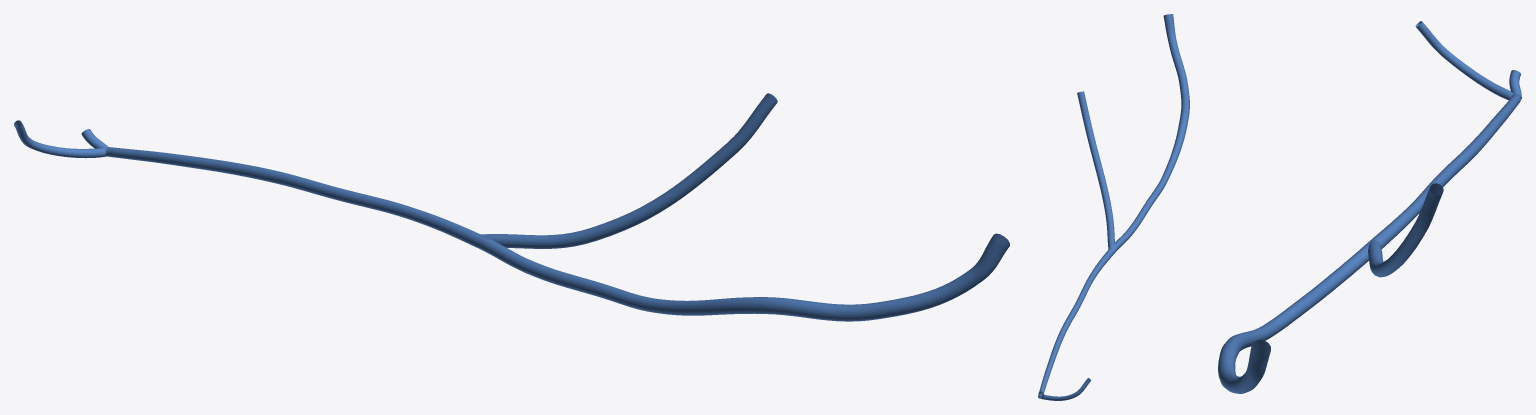
The picture shows the model from 3 angles, left to right: view 1: azimuth 30°, elevation 25°; view 2: azimuth 150°, elevation 25°; view 3: azimuth 330°, elevation 25°; orthographic projection. The views are drawn at different scales.
Visible parts, largest first — view 1: 右侧前臂正中静脉; view 2: 右侧前臂正中静脉; view 3: 右侧前臂正中静脉.
Part boxes in pixels (x1=…): 右侧前臂正中静脉: x1=14, y1=93, x2=1009, y2=321; 右侧前臂正中静脉: x1=1038, y1=14, x2=1189, y2=400; 右侧前臂正中静脉: x1=1218, y1=21, x2=1521, y2=393.
Size of the model in its own units: 0.1276 by 0.0752 by 0.3063.
